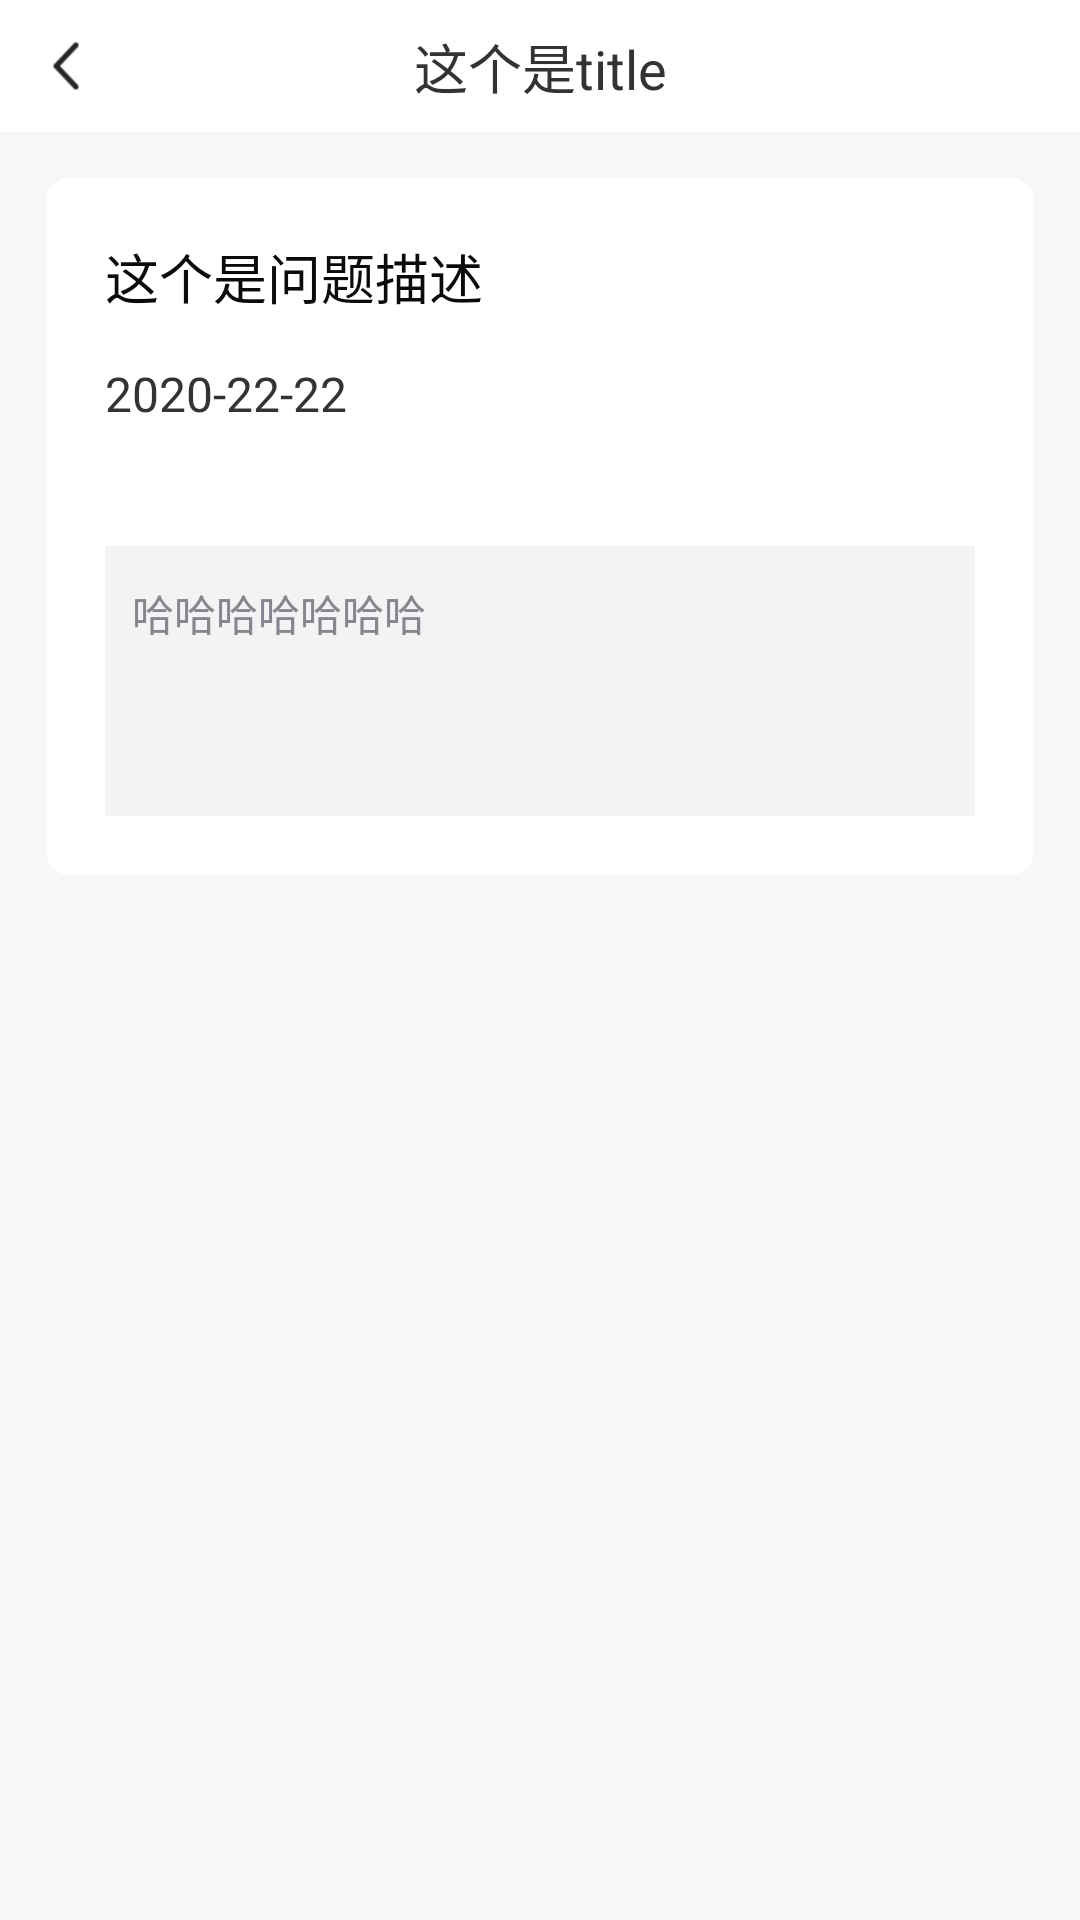

Icons on this 1080x1920 Android screen, each with its box as [x1, y1, x2, y2]:
back: [53, 42, 79, 90]
